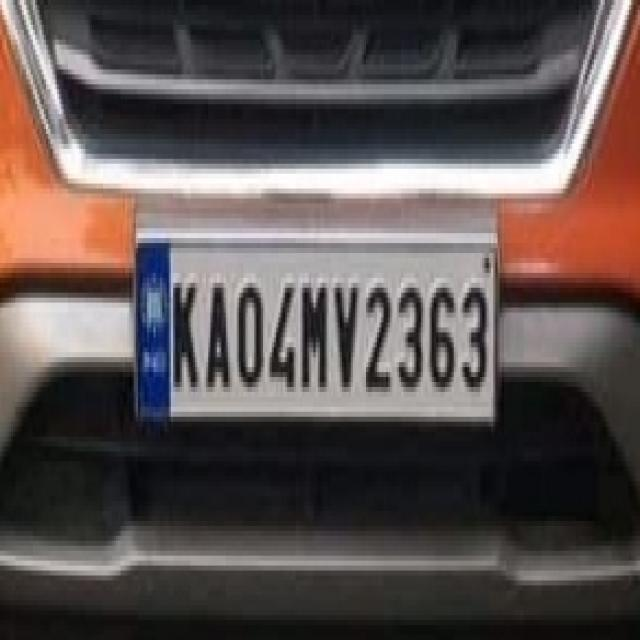0: (236, 280, 264, 390)
3: (394, 274, 426, 394), (461, 280, 490, 392)
4: (268, 272, 298, 392)
6: (426, 279, 459, 394)
A: (202, 279, 232, 396)
K: (170, 278, 202, 398)
M: (299, 278, 329, 394)
V: (331, 276, 360, 400)
